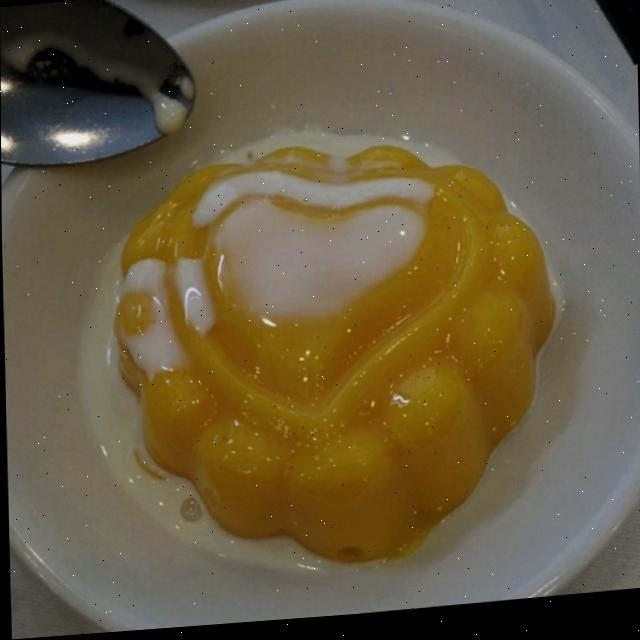蛋糕甜品: (0, 0, 639, 636)
